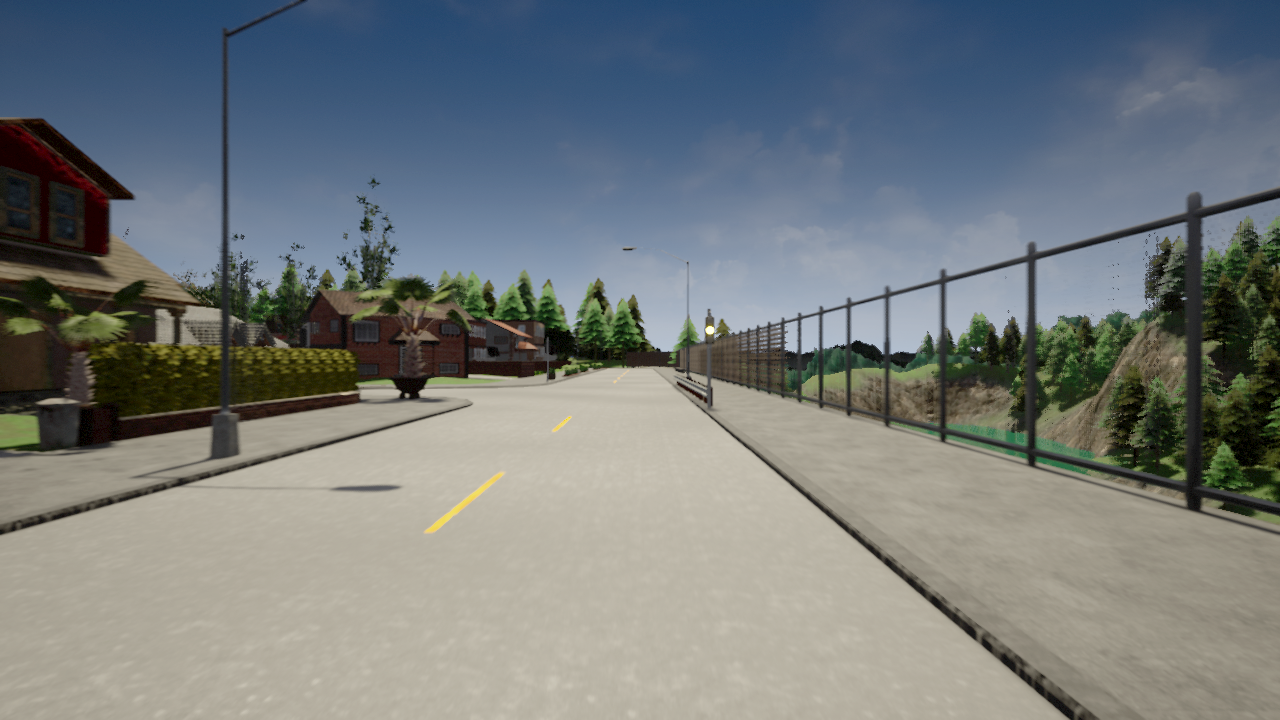yellow: (704, 316, 717, 346)
